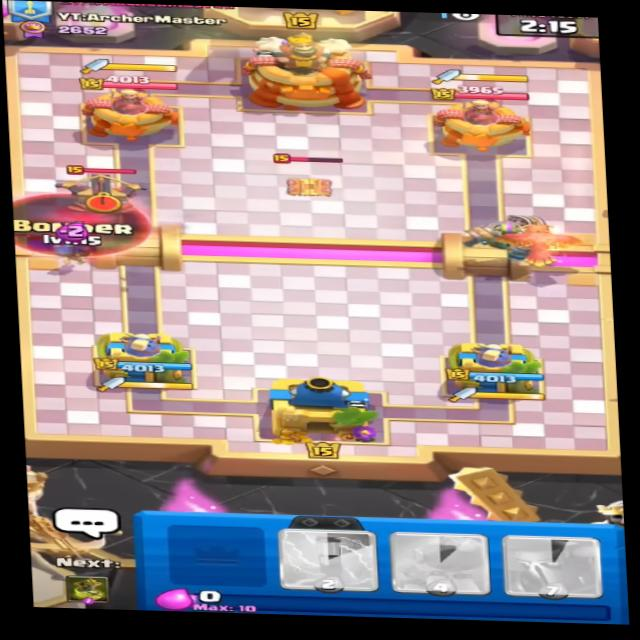tesla-closed: (263, 146, 355, 200)
x-bow: (39, 164, 155, 224)
